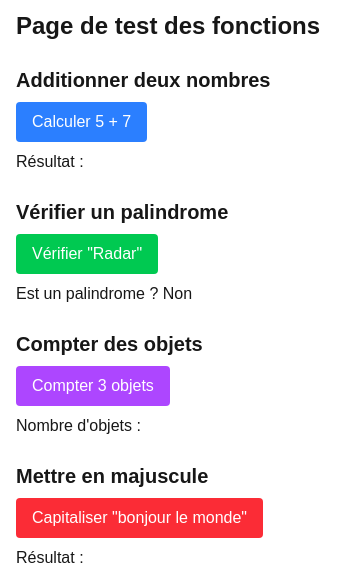
TestPage UI › additionne 5 + 7 quand on clique sur le bouton
Click the button "Calculer 5 + 7" at (82, 122), box [16,102,147,142]
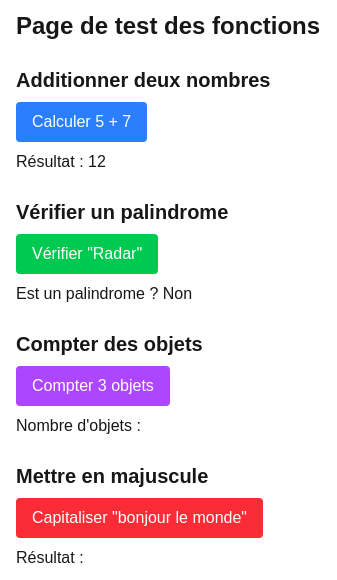
Expected: the text "Résultat : 12" is shown, [16,153,106,170]
